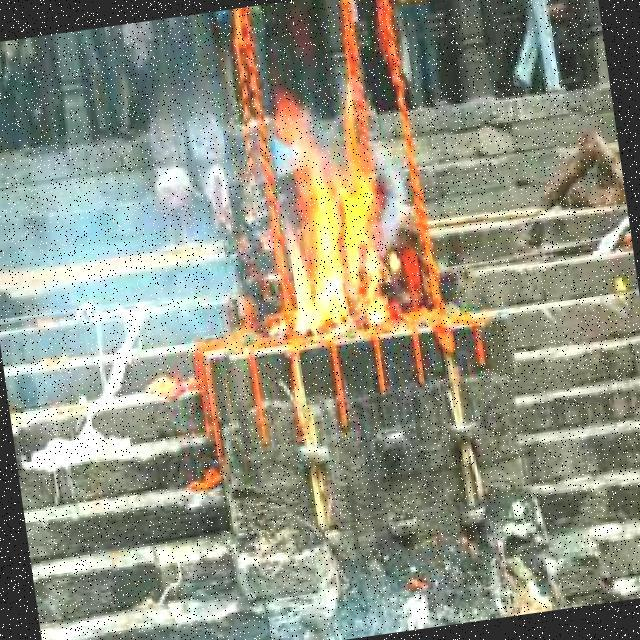Fire: (254, 112, 394, 338)
